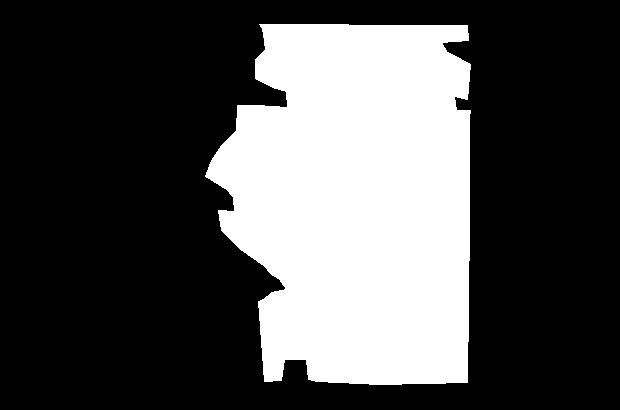type2: (203, 21, 471, 389)
